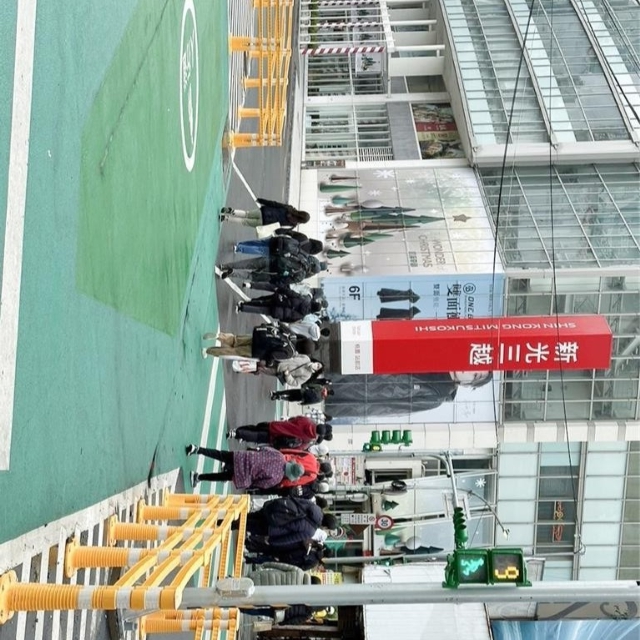green_light: (451, 551, 526, 587)
